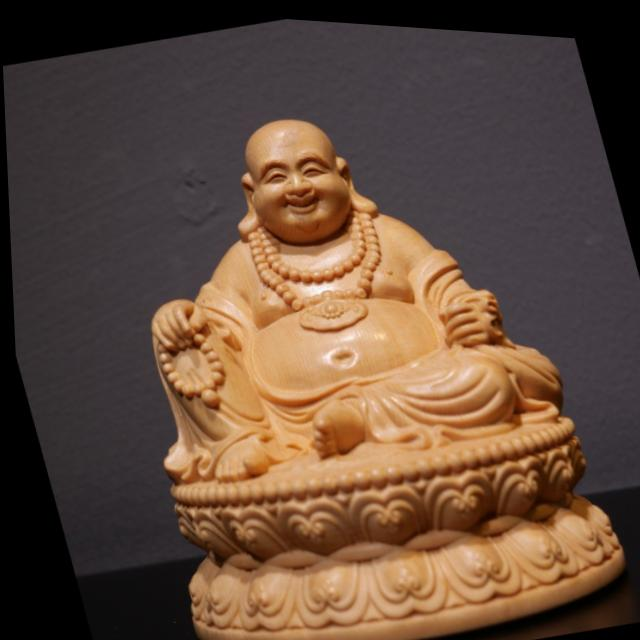Smiling Buddha: (87, 58, 546, 509)
